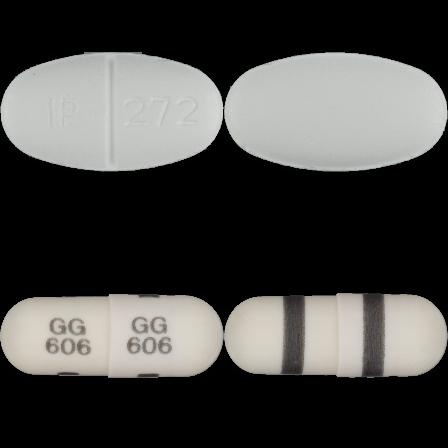53808-0798: (0, 0, 224, 224)
